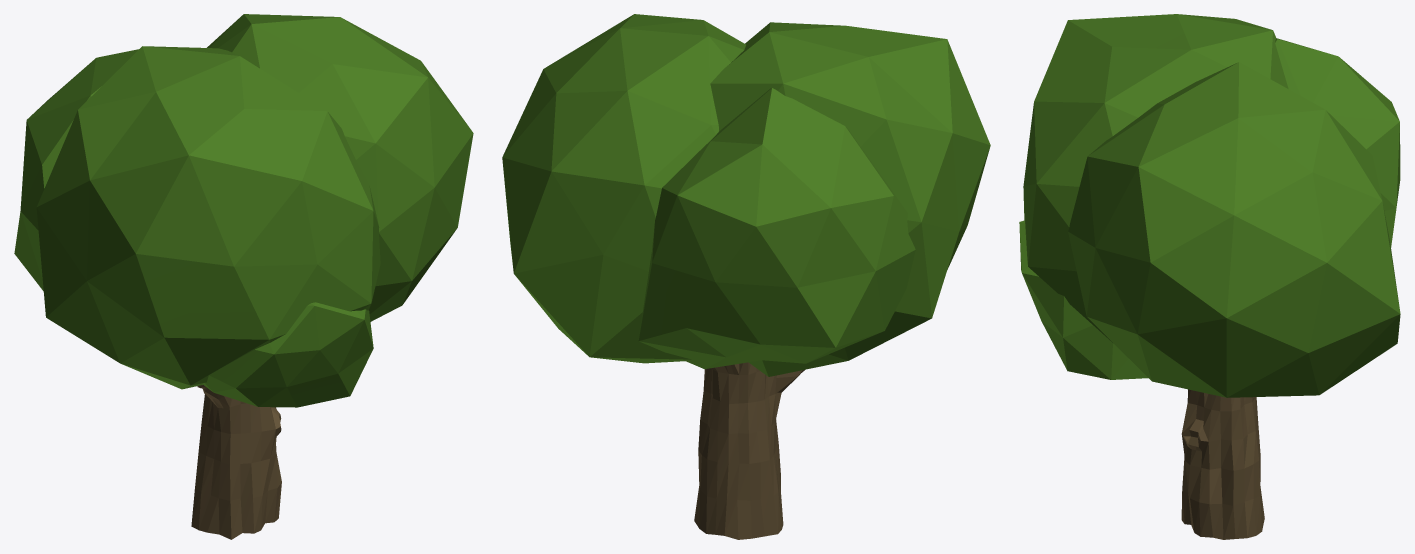
The model's file is Tree_xl.fbx.
3 renders of one model, left to right at view 1: azimuth 30°, elevation 25°; view 2: azimuth 150°, elevation 25°; view 3: azimuth 270°, elevation 25°, orthographic. The views are drawn at different scales.
Parts seen in each view (by area): view 1: Tree_xl_leaf, Tree_xl_log; view 2: Tree_xl_leaf, Tree_xl_log; view 3: Tree_xl_leaf, Tree_xl_log.
Boxes of the visible parts, box(x1,y1,x2,y2) form: Tree_xl_leaf: box(14, 14, 473, 407); Tree_xl_log: box(191, 385, 281, 539); Tree_xl_leaf: box(502, 14, 990, 376); Tree_xl_log: box(694, 362, 804, 539); Tree_xl_leaf: box(1019, 14, 1400, 397); Tree_xl_log: box(1181, 389, 1264, 539).
Bounding box in the file's own units: 14.36 × 16.32 × 11.85.
